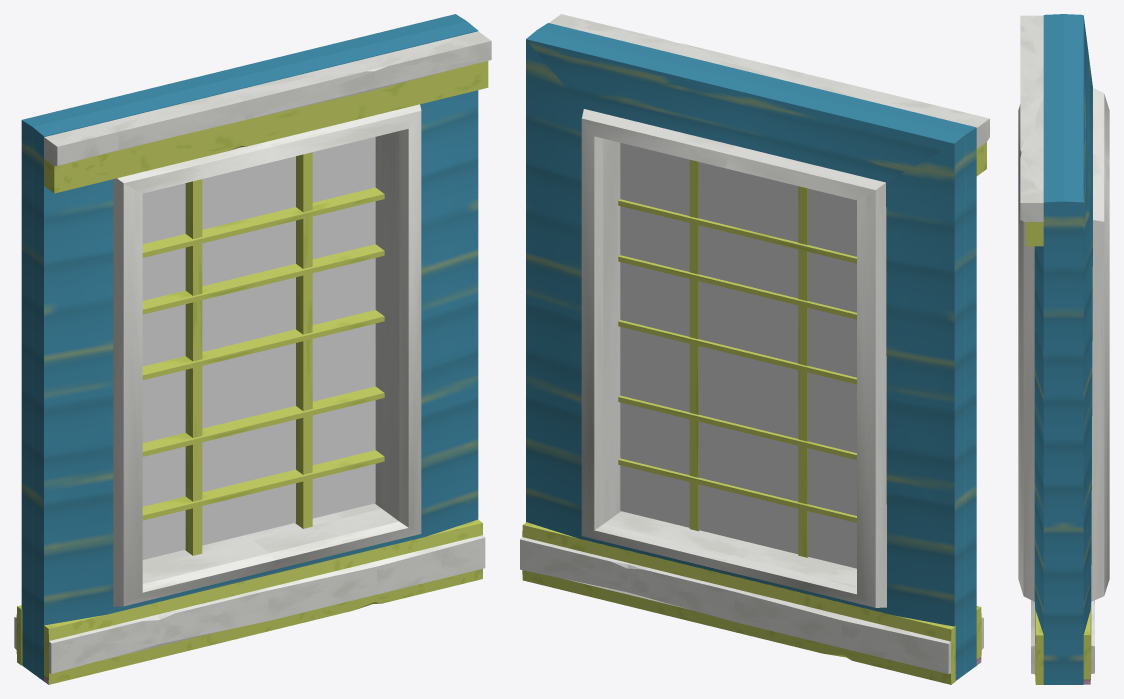
Rendered from Wall_Window_02.fbx.
The picture shows the model from 3 angles, left to right: view 1: azimuth 30°, elevation 25°; view 2: azimuth 150°, elevation 25°; view 3: azimuth 270°, elevation 25°; orthographic projection. The views are drawn at different scales.
Visible parts, largest first — view 1: SM_Bld_Wall_Trim_09, Window; view 2: SM_Bld_Wall_Trim_09, Window; view 3: SM_Bld_Wall_Trim_09.
Part boxes in pixels (box(x1,y1,x2,y2)): SM_Bld_Wall_Trim_09: box(14, 14, 491, 684); Window: box(142, 137, 375, 559); SM_Bld_Wall_Trim_09: box(520, 14, 989, 684); Window: box(620, 143, 856, 568); SM_Bld_Wall_Trim_09: box(1018, 14, 1109, 684).
Bounding box in the file's own units: 250 × 301 × 51.53.
